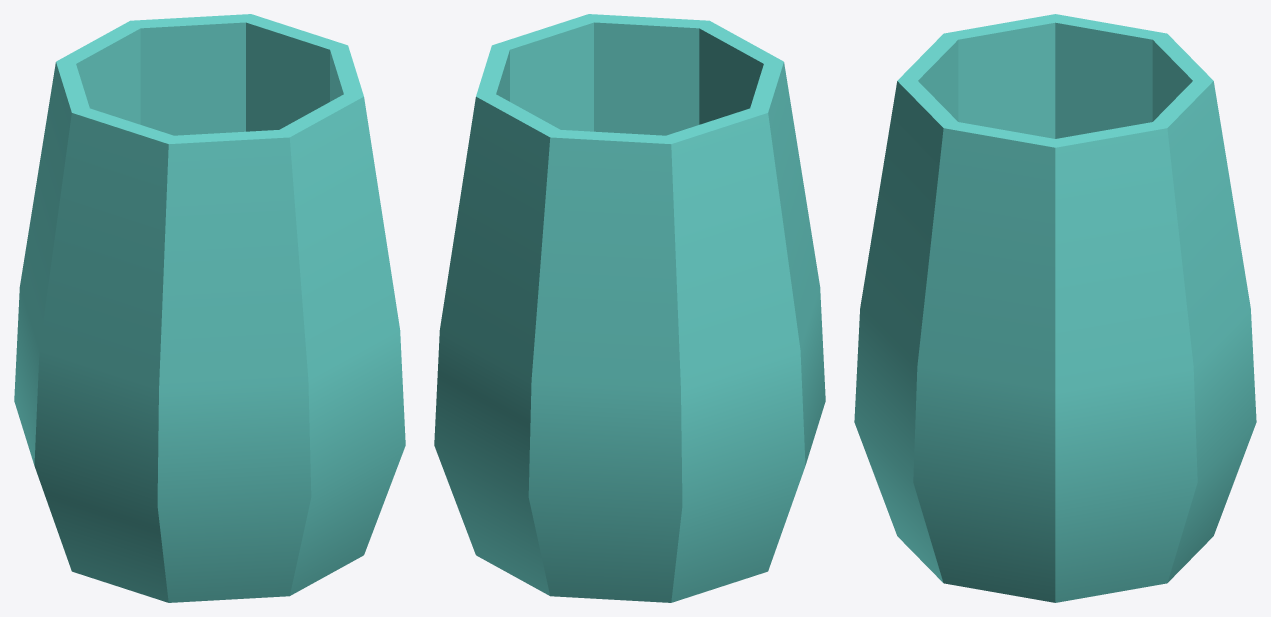
Rendered from PotBleu.fbx.
3 renders of one model, left to right at view 1: azimuth 30°, elevation 25°; view 2: azimuth 150°, elevation 25°; view 3: azimuth 270°, elevation 25°, orthographic.
Parts seen in each view (by area): view 1: Pot3; view 2: Pot3; view 3: Pot3.
Boxes of the visible parts, x1,y1,x2,y2 form: Pot3: [14, 14, 405, 602]; Pot3: [434, 14, 825, 602]; Pot3: [854, 14, 1256, 602].
Size of the model in its own units: 0.1321 by 0.165 by 0.1321.
